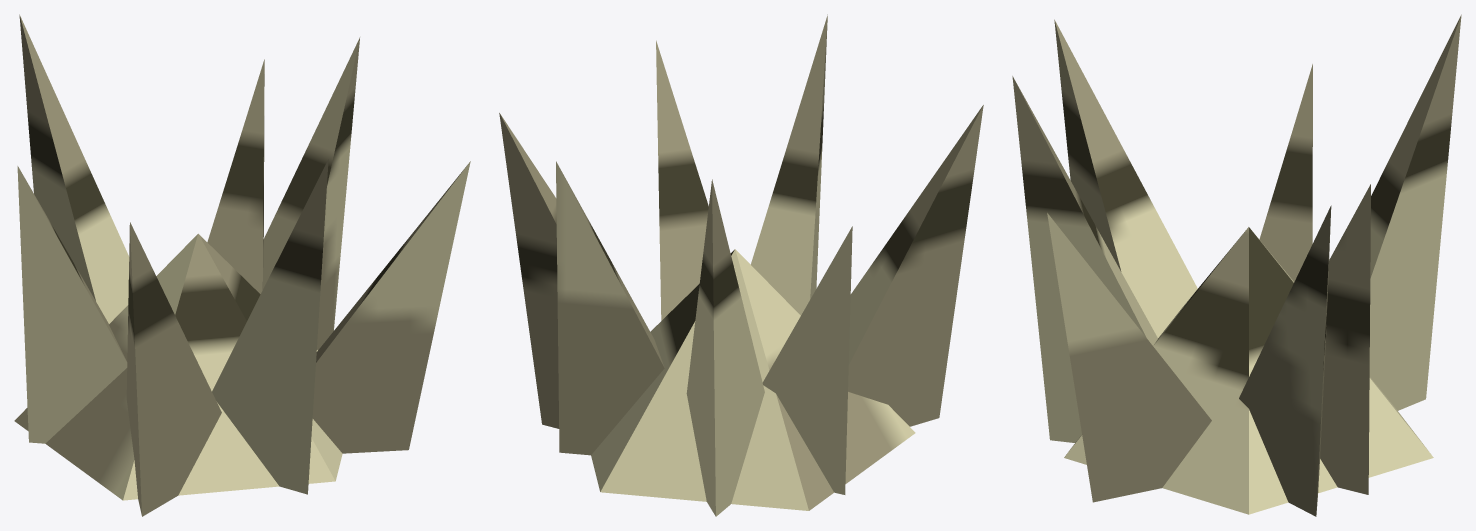
Rendered from grass_v2.fbx.
3 views of the same model, side by side, from view 1: azimuth 30°, elevation 25°; view 2: azimuth 150°, elevation 25°; view 3: azimuth 270°, elevation 25° (orthographic). The views are drawn at different scales.
Visible parts, largest first — view 1: prop; view 2: prop; view 3: prop.
Part boxes in pixels (x1,y1,x2,y2): prop: (14,14,470,516); prop: (499,14,983,516); prop: (1012,14,1461,516).
Size of the model in its own units: 0.2711 by 0.2577 by 0.277.
